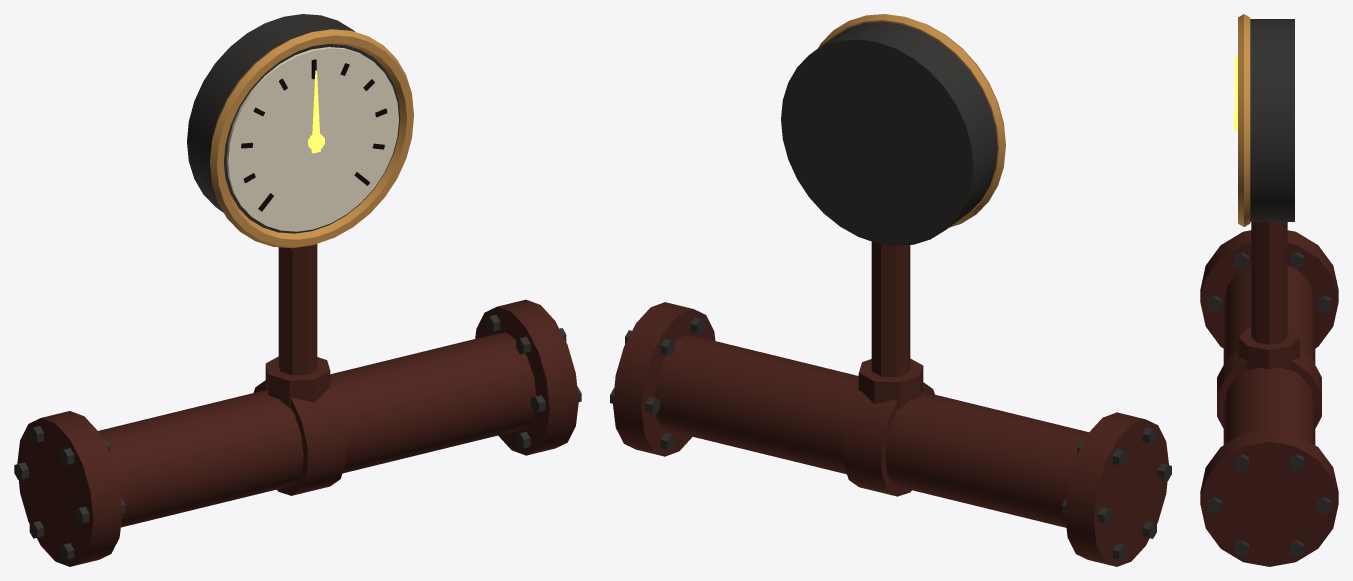
The model's file is PipeGauge.fbx.
3 renders of one model, left to right at view 1: azimuth 30°, elevation 25°; view 2: azimuth 150°, elevation 25°; view 3: azimuth 270°, elevation 25°, orthographic. The views are drawn at different scales.
Visible parts, largest first — view 1: PipeGauge_Pipe, PipeGauge_GaugeFace, PipeGauge_GaugeRim, PipeGauge_Gauge, PipeGauge_Bolts, PipeGauge_GaugeTicks; view 2: PipeGauge_Pipe, PipeGauge_Gauge, PipeGauge_GaugeRim, PipeGauge_Bolts; view 3: PipeGauge_Pipe, PipeGauge_Gauge, PipeGauge_GaugeRim, PipeGauge_Bolts, PipeGauge_GaugeNeedle.
Part boxes in pixels (x1,y1,x2,y2): PipeGauge_Pipe: (17, 244, 578, 566); PipeGauge_GaugeFace: (226, 47, 398, 231); PipeGauge_GaugeRim: (210, 29, 413, 248); PipeGauge_Gauge: (187, 14, 400, 233); PipeGauge_Bolts: (14, 314, 581, 560); PipeGauge_GaugeTicks: (241, 59, 387, 211); PipeGauge_Pipe: (613, 241, 1168, 566); PipeGauge_Gauge: (781, 21, 997, 245); PipeGauge_GaugeRim: (818, 14, 1005, 227); PipeGauge_Bolts: (610, 317, 1171, 560); PipeGauge_Pipe: (1200, 222, 1338, 566); PipeGauge_Gauge: (1250, 19, 1294, 221); PipeGauge_GaugeRim: (1238, 14, 1250, 226); PipeGauge_Bolts: (1207, 252, 1331, 557); PipeGauge_GaugeNeedle: (1234, 56, 1237, 131).
Size of the model in its own units: 0.514 by 0.473 by 0.136.
